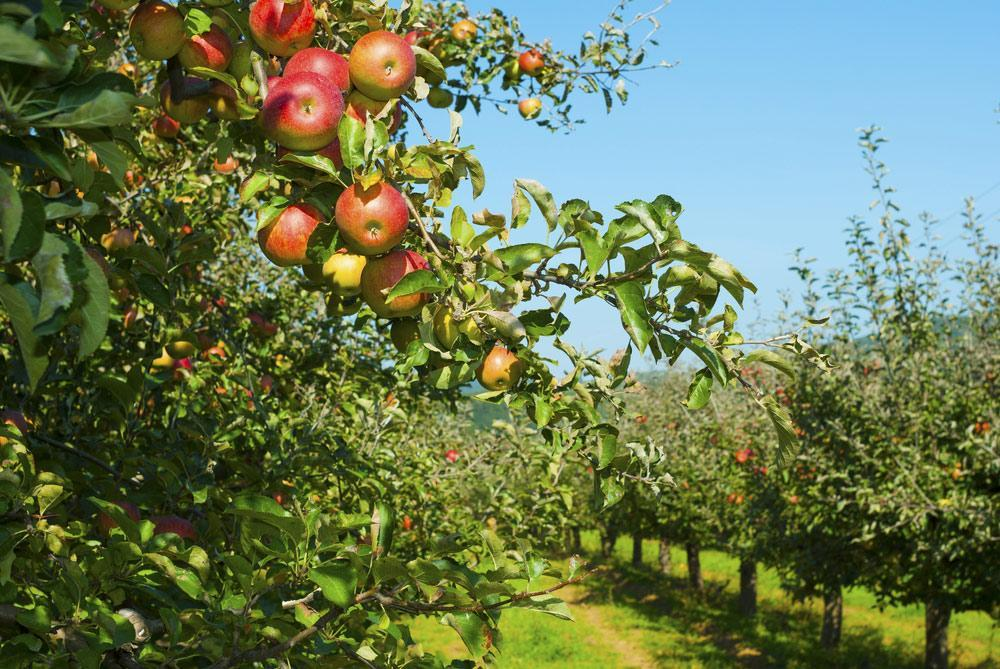apple: (262, 73, 341, 151), (332, 181, 407, 254), (348, 29, 415, 98), (361, 254, 427, 318), (248, 1, 316, 54), (261, 204, 321, 264), (130, 4, 188, 62), (180, 26, 232, 73), (478, 345, 522, 392), (151, 514, 195, 544), (142, 531, 186, 558), (152, 111, 181, 140), (164, 340, 195, 360)
